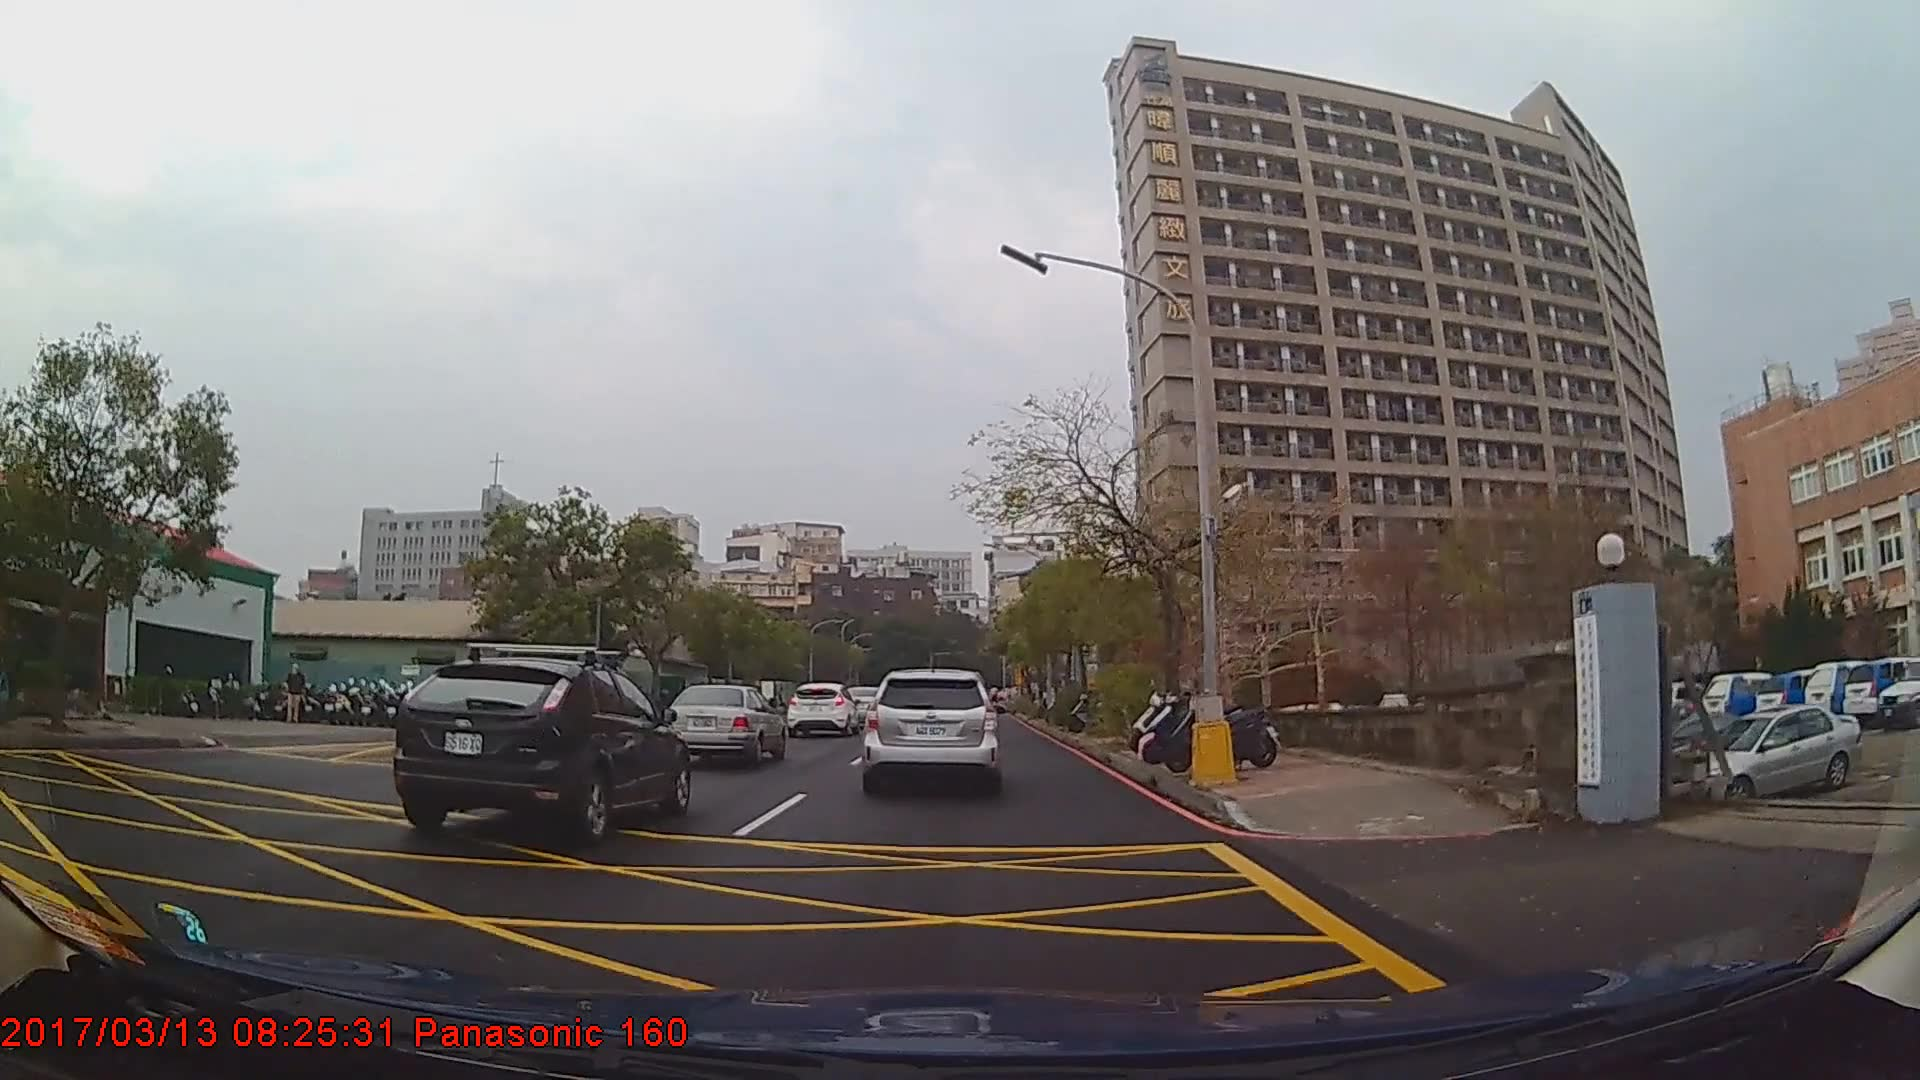pedestrian: (285, 664, 306, 724)
vehicle: (389, 654, 689, 839), (1676, 702, 1864, 799), (863, 666, 997, 792), (661, 681, 786, 766), (786, 682, 860, 739)
